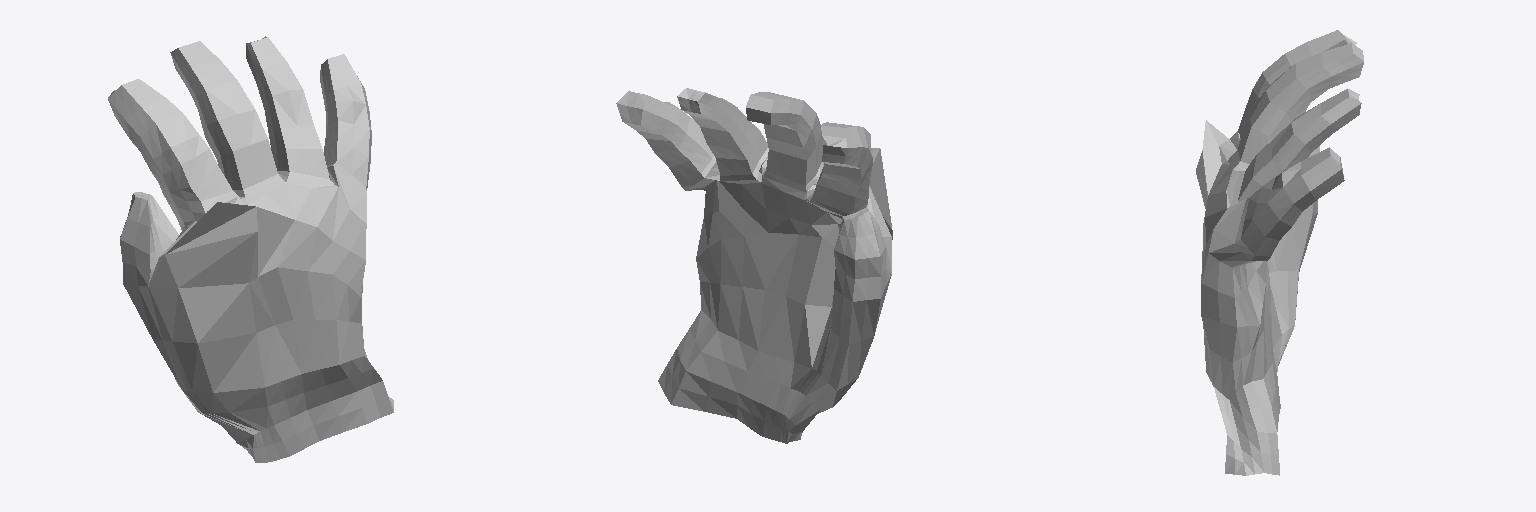
File: hand_sub2_triang0024.obj
3 renders of one model, left to right at view 1: azimuth 30°, elevation 25°; view 2: azimuth 150°, elevation 25°; view 3: azimuth 270°, elevation 25°, orthographic.
Visible parts, largest first — view 1: Hand; view 2: Hand; view 3: Hand.
Boxes of the visible parts, <box> form: Hand: <box>108,36,393,462</box>; Hand: <box>616,88,892,443</box>; Hand: <box>1196,30,1363,475</box>.
Bounding box in the file's own units: 2.96 × 4.38 × 1.74.